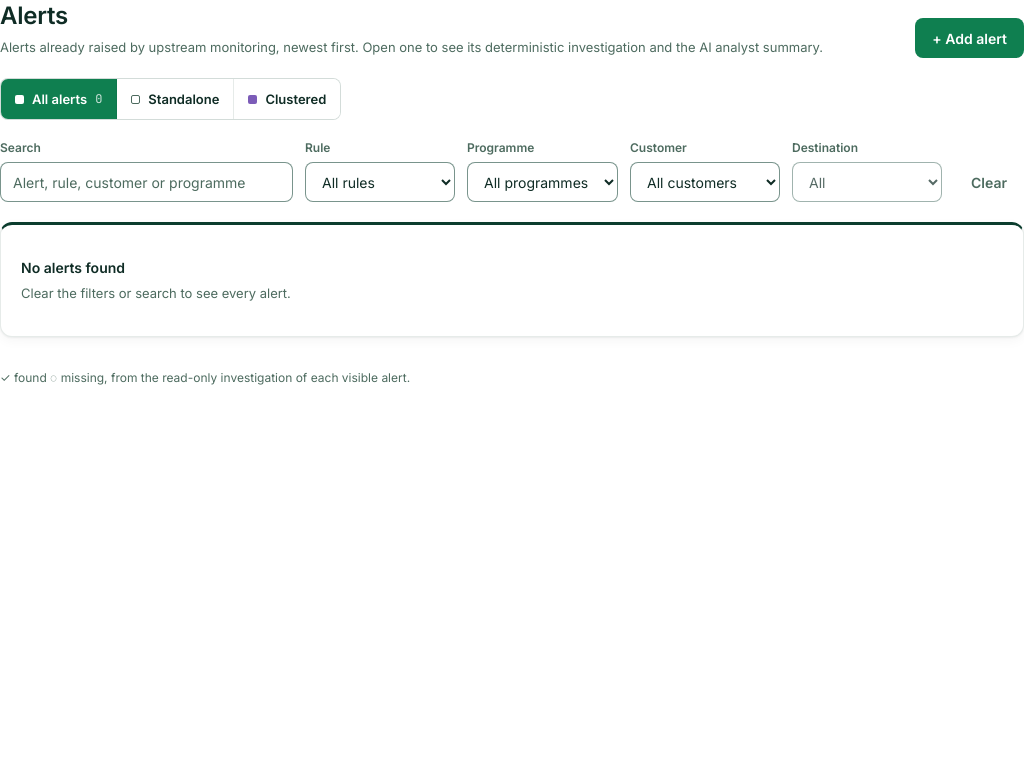
Test: add alert › blocks submission with a message on each missing value
The width and height of the screenshot is (1024, 768).
Expected: the text "No alerts found" is shown, [21,259,125,276]
Click the button "+ Add alert" at [970, 38], box [915,18,1023,58]
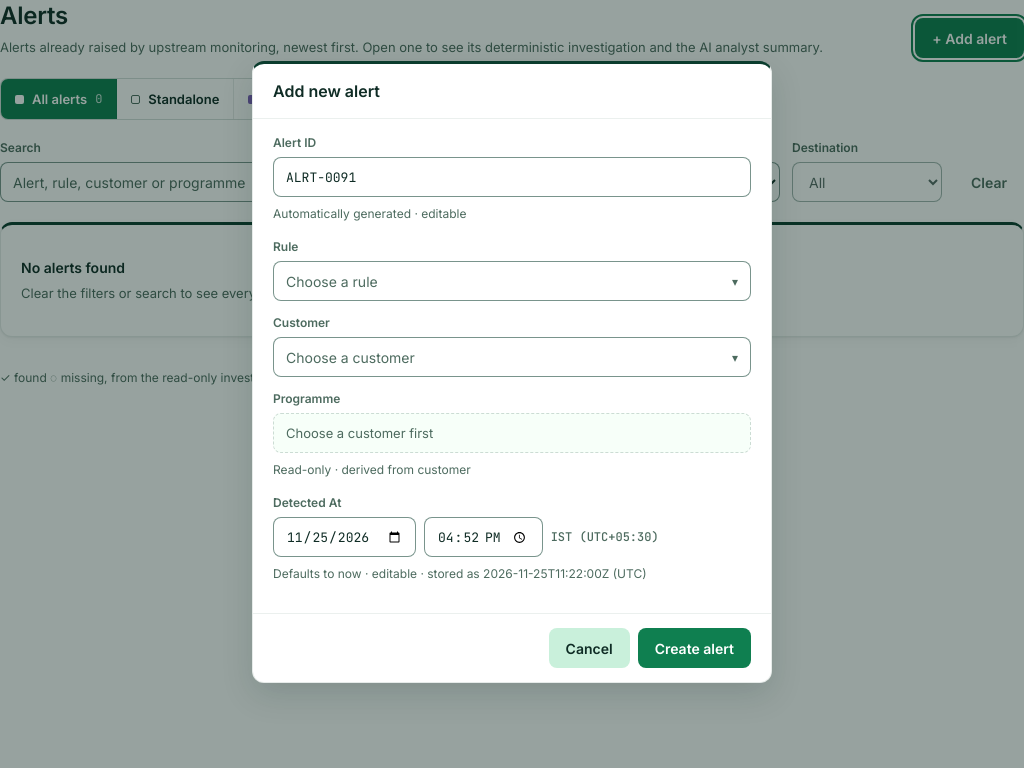
Now the field labelled "Alert ID" holds "ALRT-0091"
Clear the field labelled "Alert ID" at [512, 177], box [273,157,751,197]
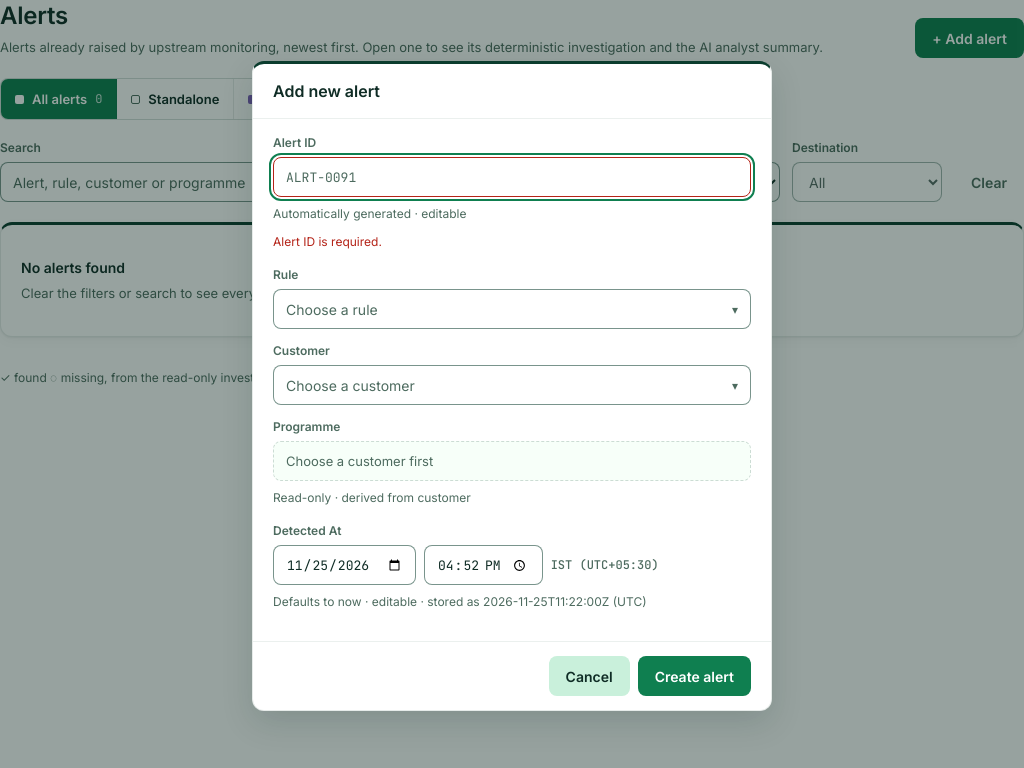
Clear the date field named "Detected date (IST)" at [344, 565], box [273,545,416,585]
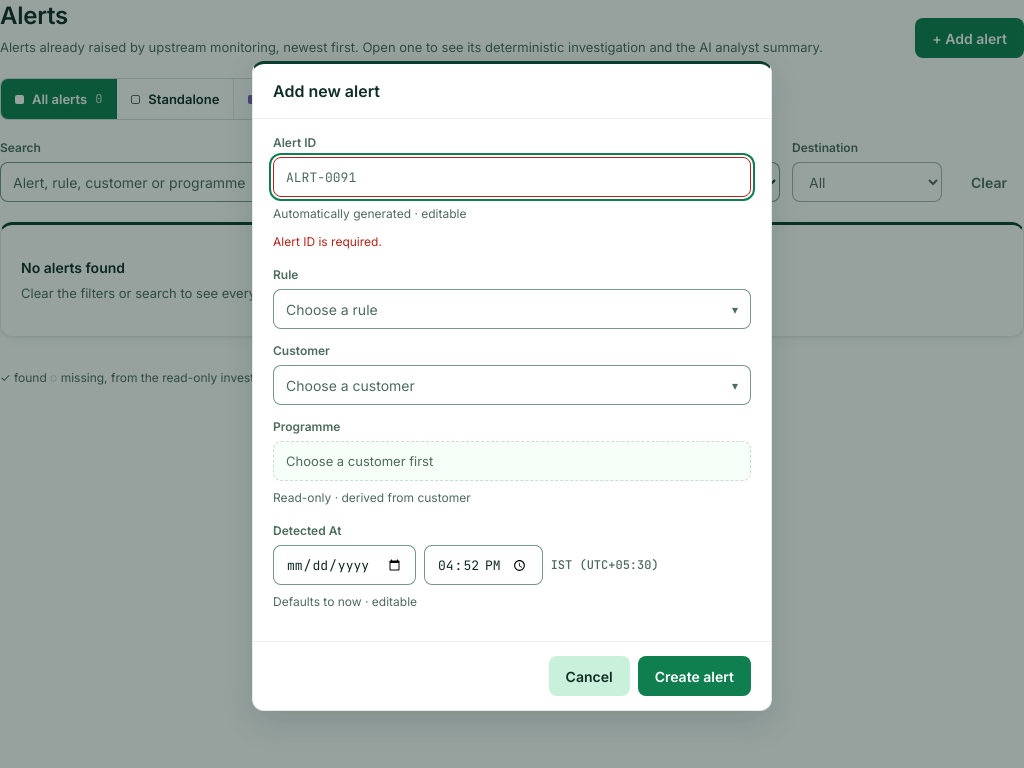
Clear the time field named "Detected time (IST)" at [483, 565], box [424,545,543,585]
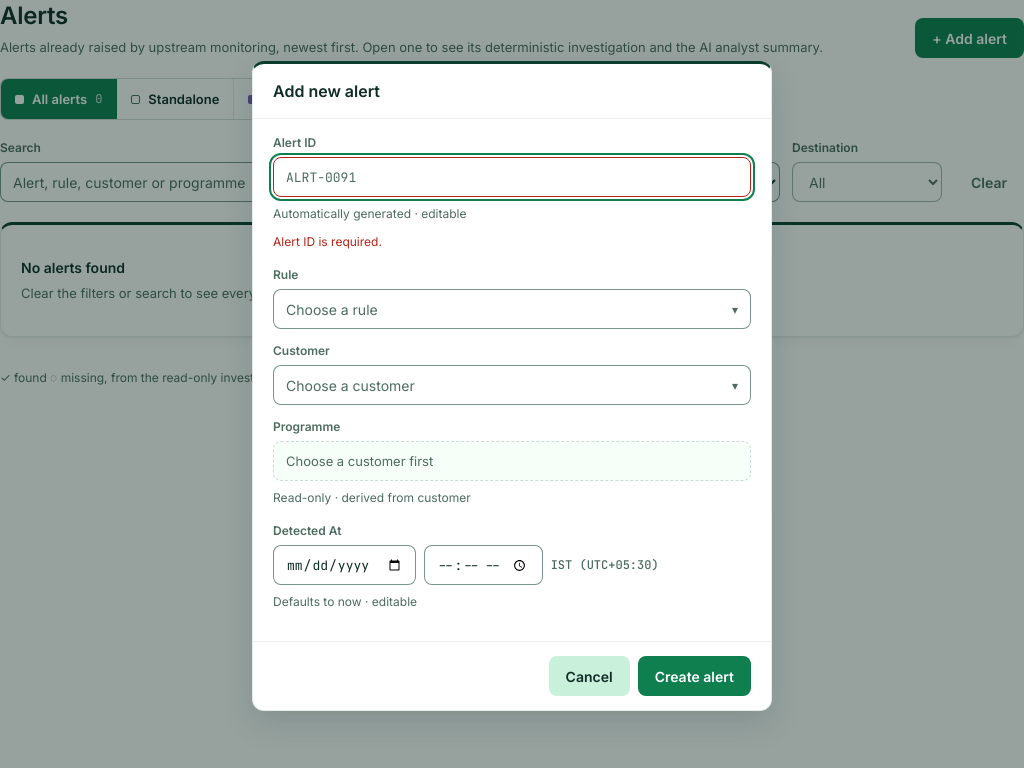
Click the button "Create alert" at [694, 676], box [638,656,751,696]
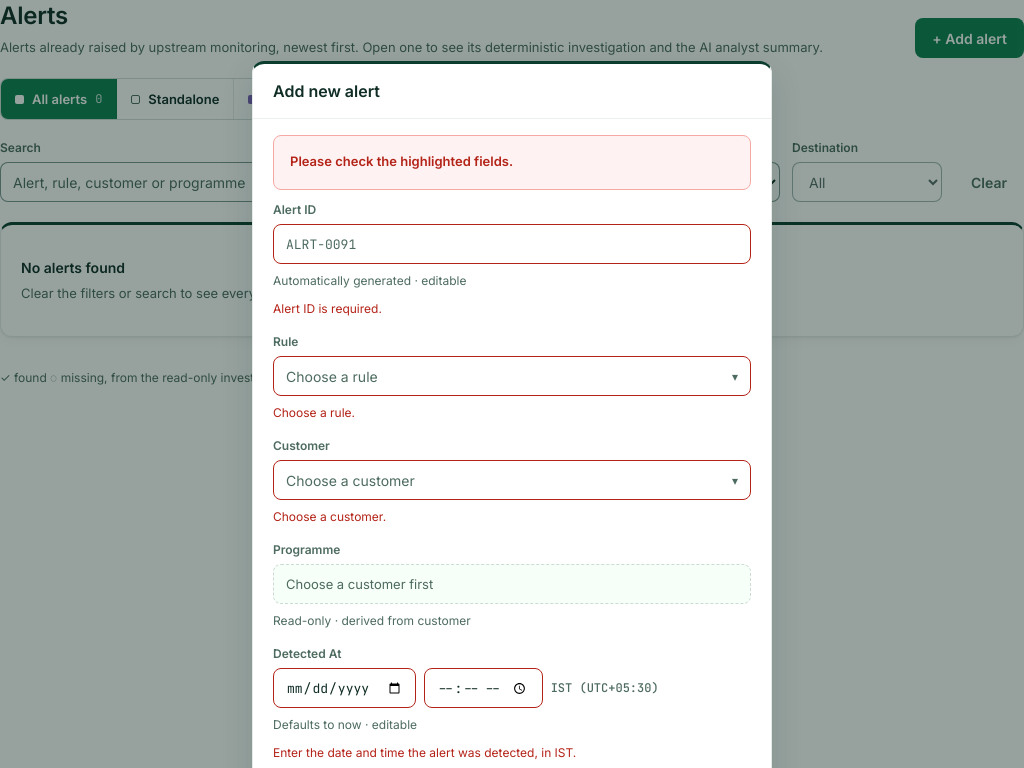
Now the text "Alert ID is required." is shown, box [273,301,382,316]
Now the text "Please check the highlighted fields." is shown, box [290,153,513,169]
Now the text "Choose a rule." is shown, box [273,405,355,420]
